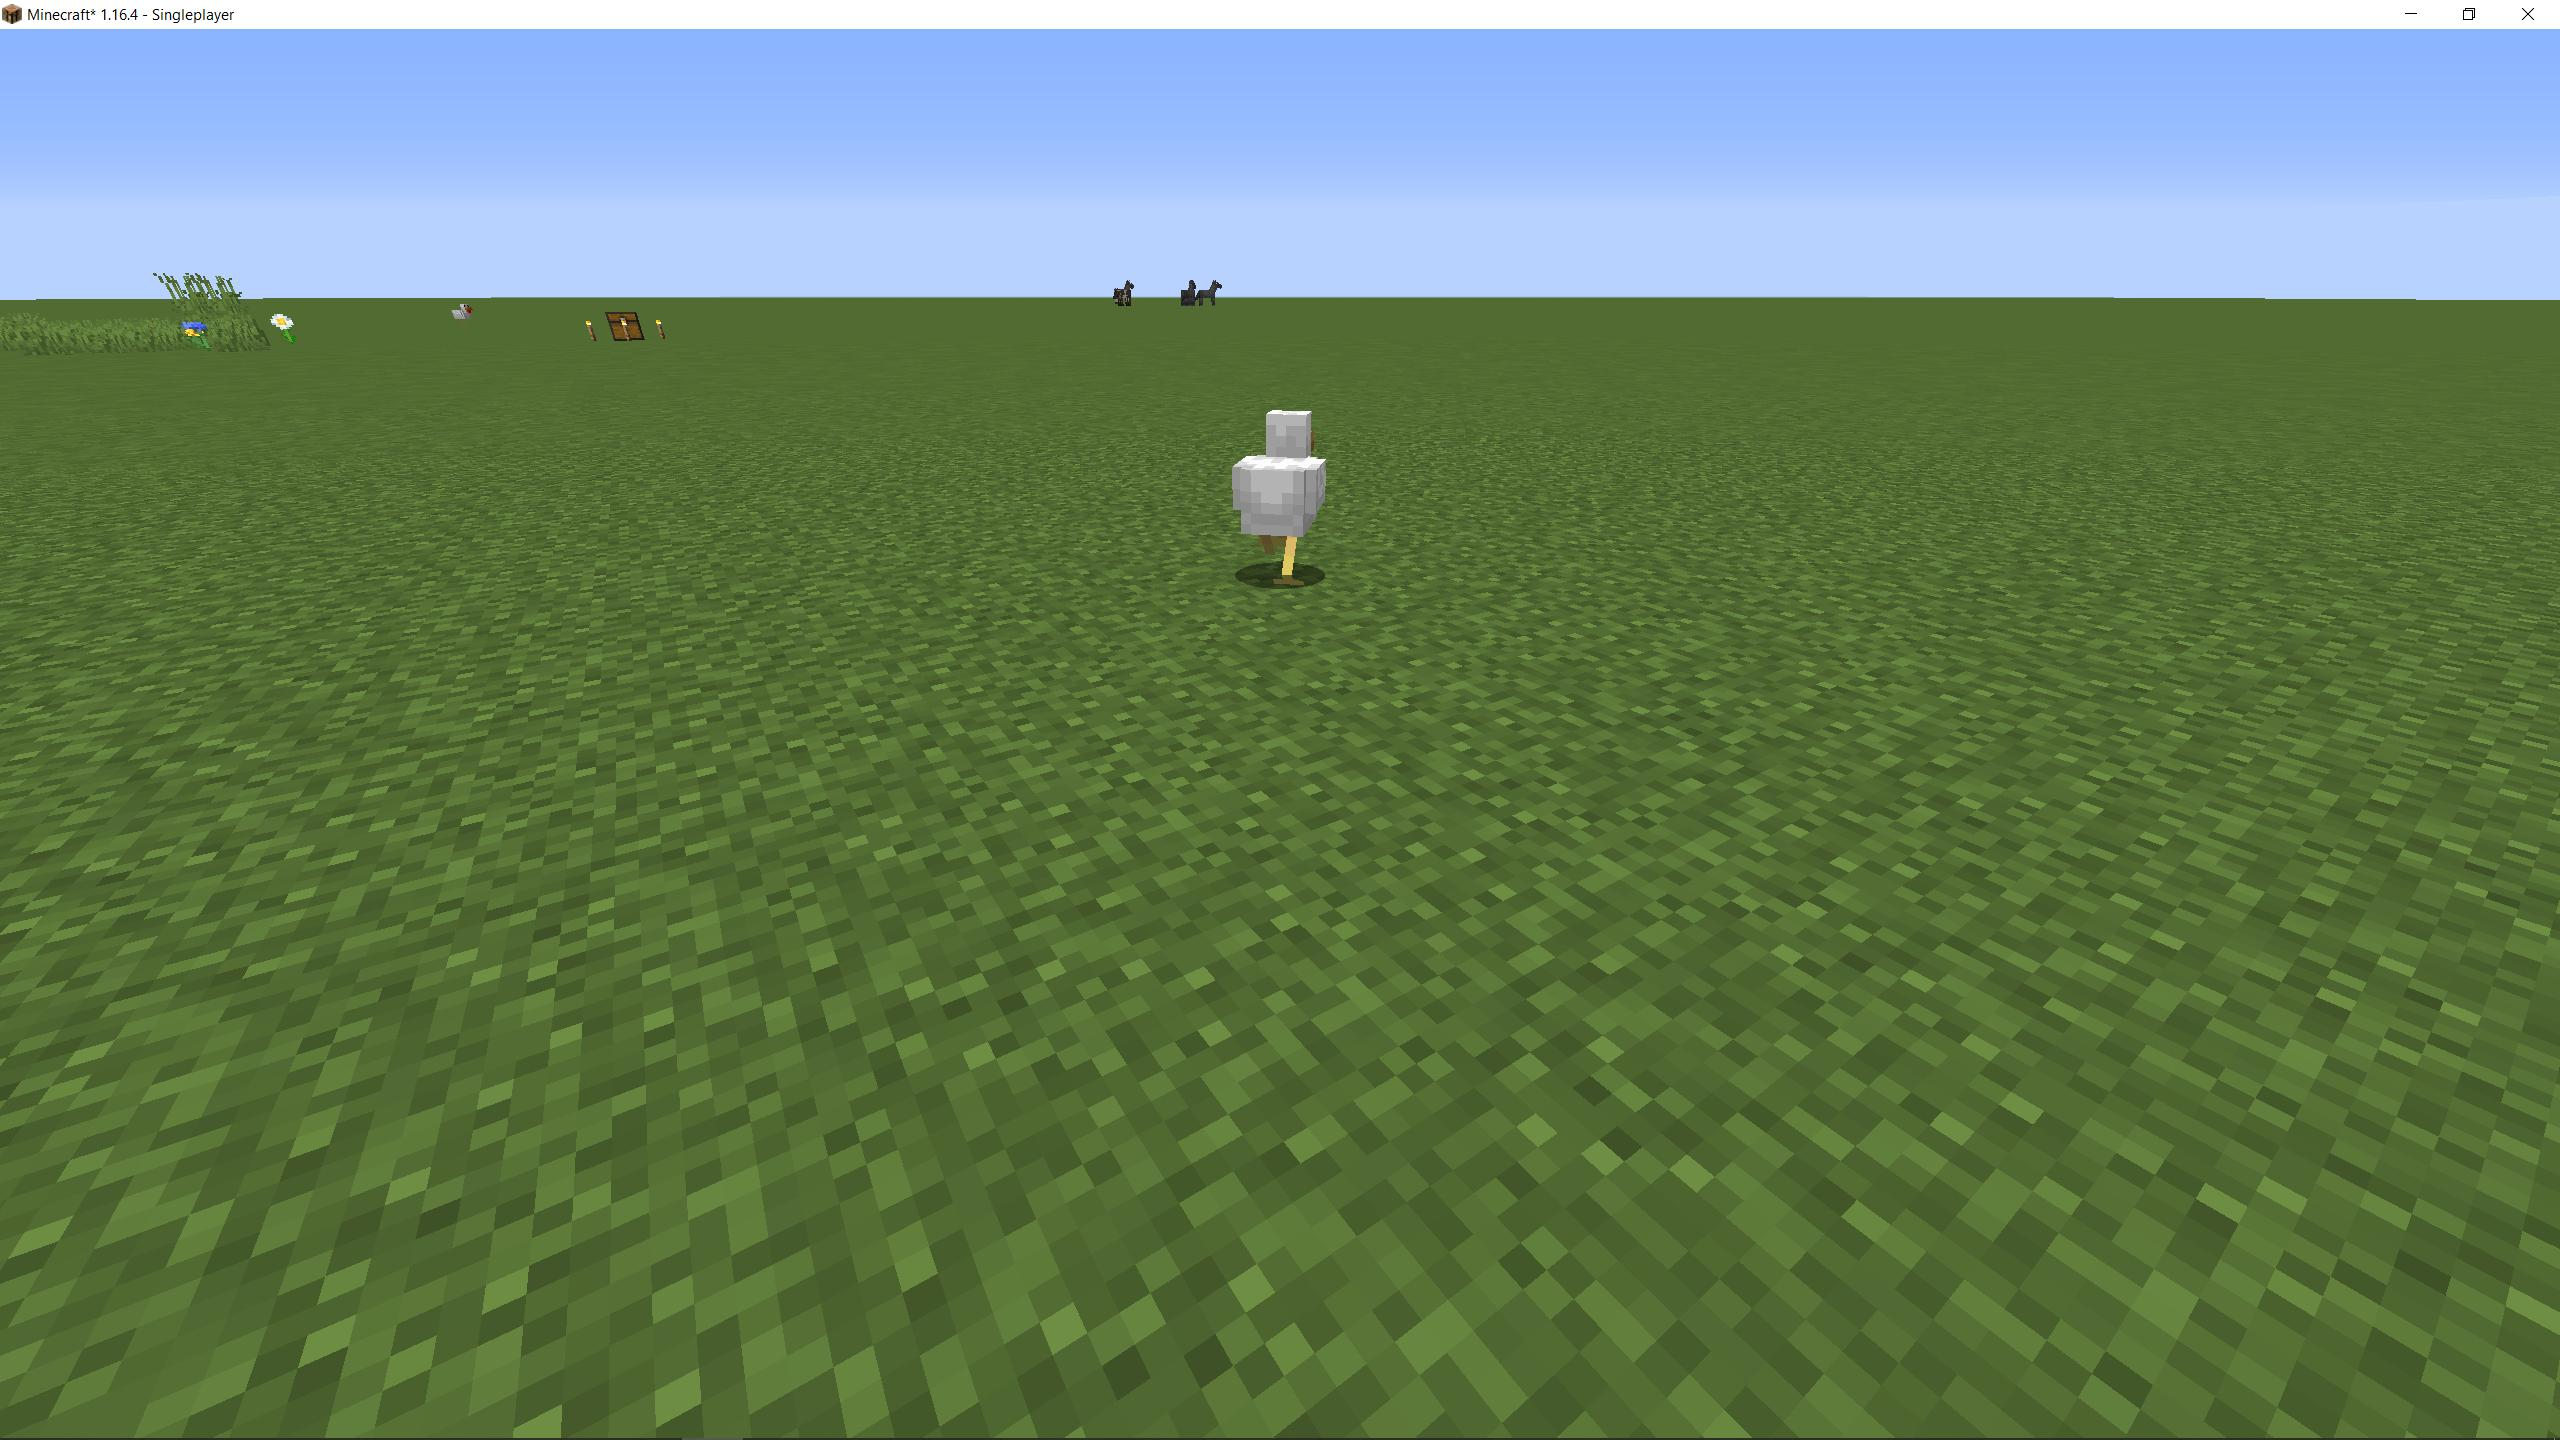chicken: (1224, 396, 1347, 593)
